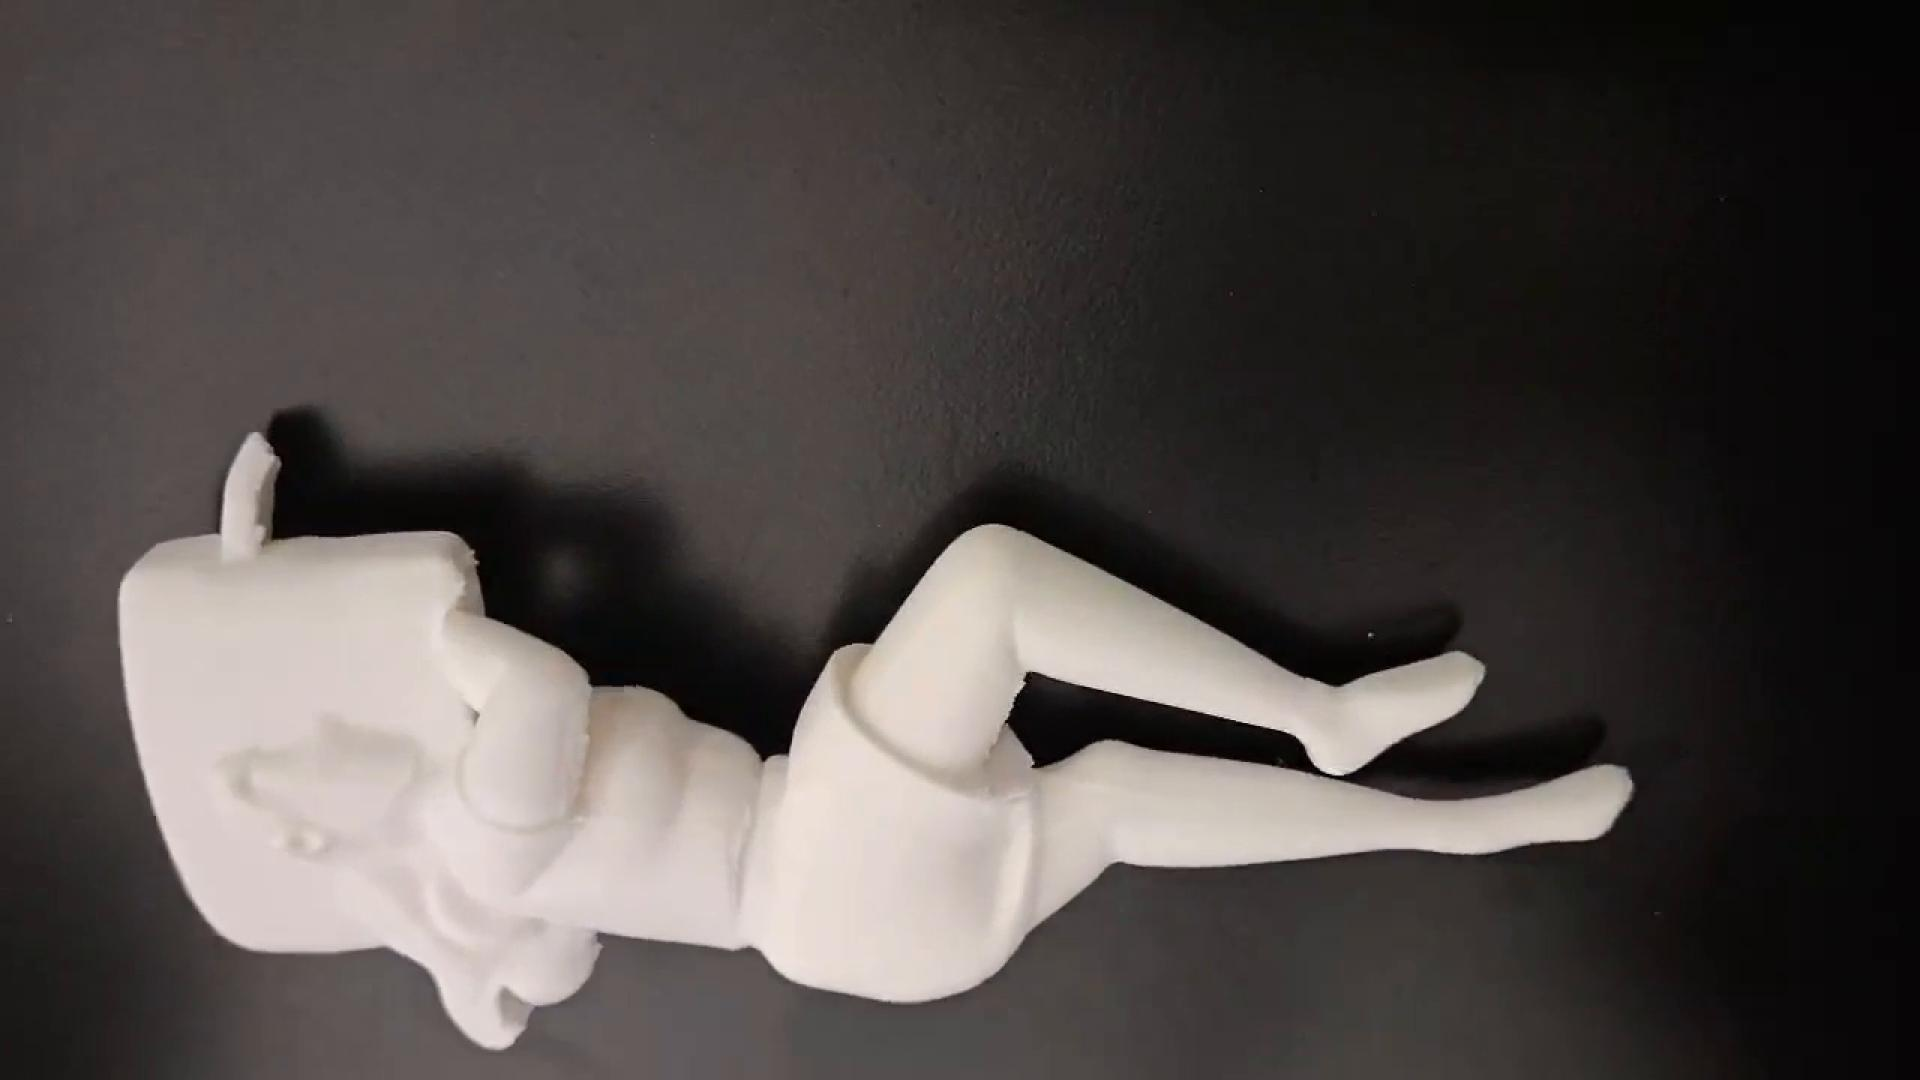Good-style: (112, 419, 1640, 1047)
